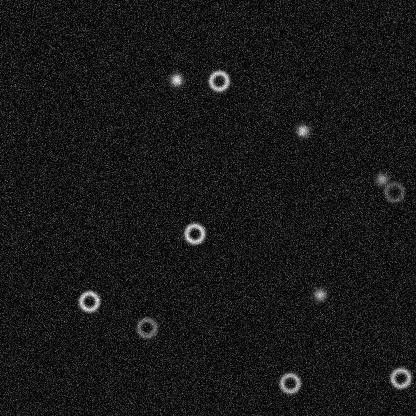Ring: (134, 315, 158, 339), (277, 371, 301, 395), (77, 289, 101, 313), (206, 68, 230, 92), (388, 365, 412, 389), (382, 180, 406, 204), (182, 221, 206, 245)
Spot: (294, 122, 310, 138), (168, 71, 184, 87), (373, 171, 389, 187), (311, 286, 327, 302)
